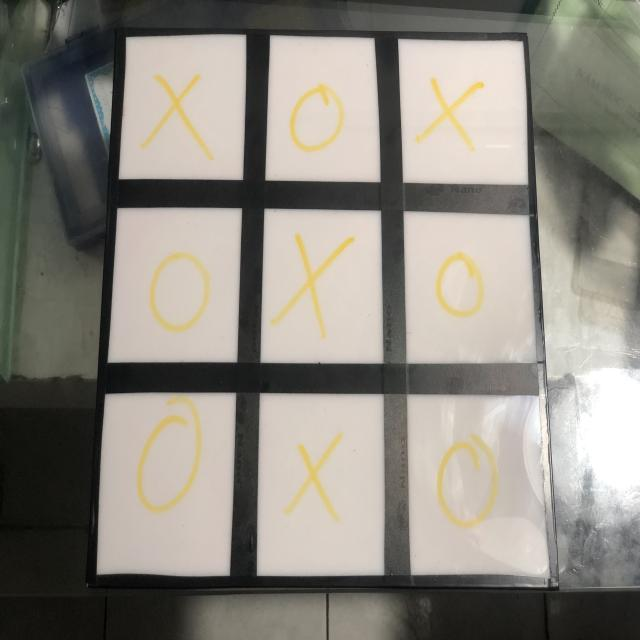o: (132, 412, 205, 516), (436, 434, 505, 537), (149, 248, 211, 336), (432, 246, 489, 326), (289, 78, 347, 154)
table: (85, 27, 563, 589)
x: (275, 225, 348, 334), (142, 71, 212, 159), (420, 75, 490, 153), (285, 436, 346, 525)
